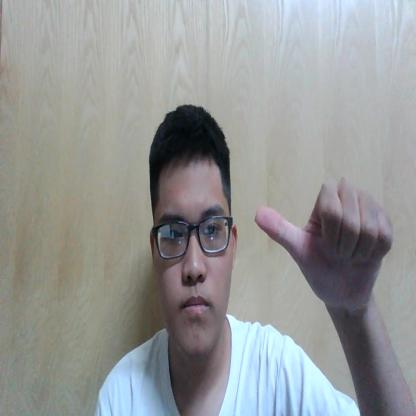right: (254, 174, 392, 306)
